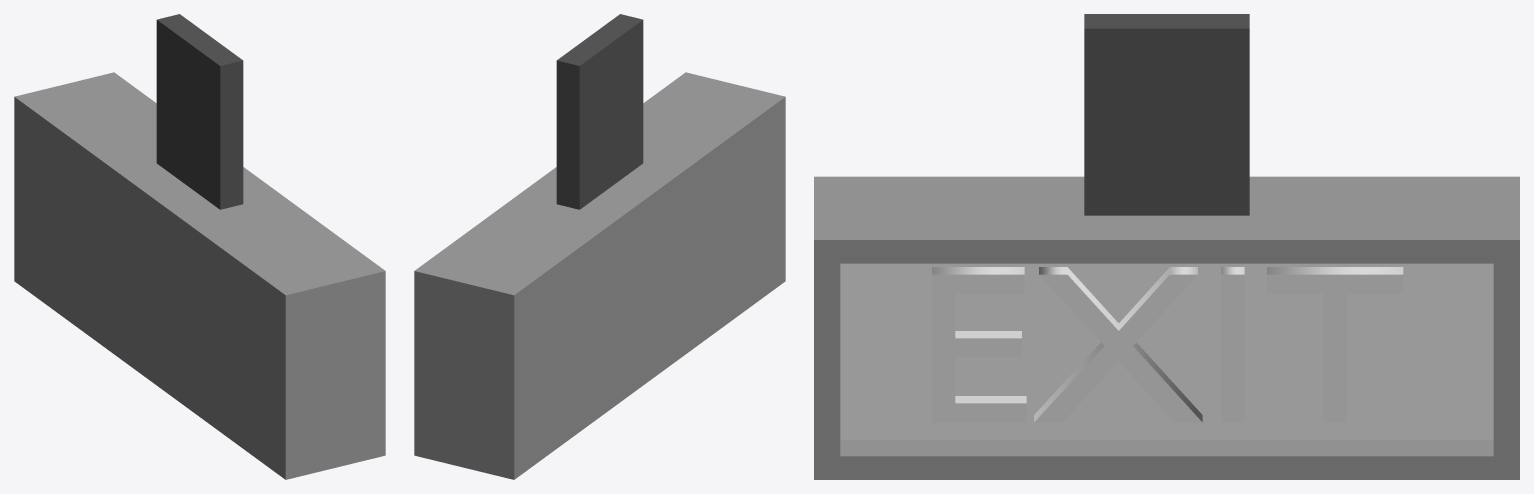
File: ExitSign.fbx
3 renders of one model, left to right at view 1: azimuth 30°, elevation 25°; view 2: azimuth 150°, elevation 25°; view 3: azimuth 270°, elevation 25°, orthographic. The views are drawn at different scales.
Visible parts, largest first — view 1: Cube; view 2: Cube; view 3: Cube.
Boxes of the visible parts, bbox=[...] form: Cube: bbox=[14, 14, 385, 479]; Cube: bbox=[414, 14, 785, 479]; Cube: bbox=[814, 14, 1519, 479].
Size of the model in its own units: 14.65 by 46 by 68.91.
